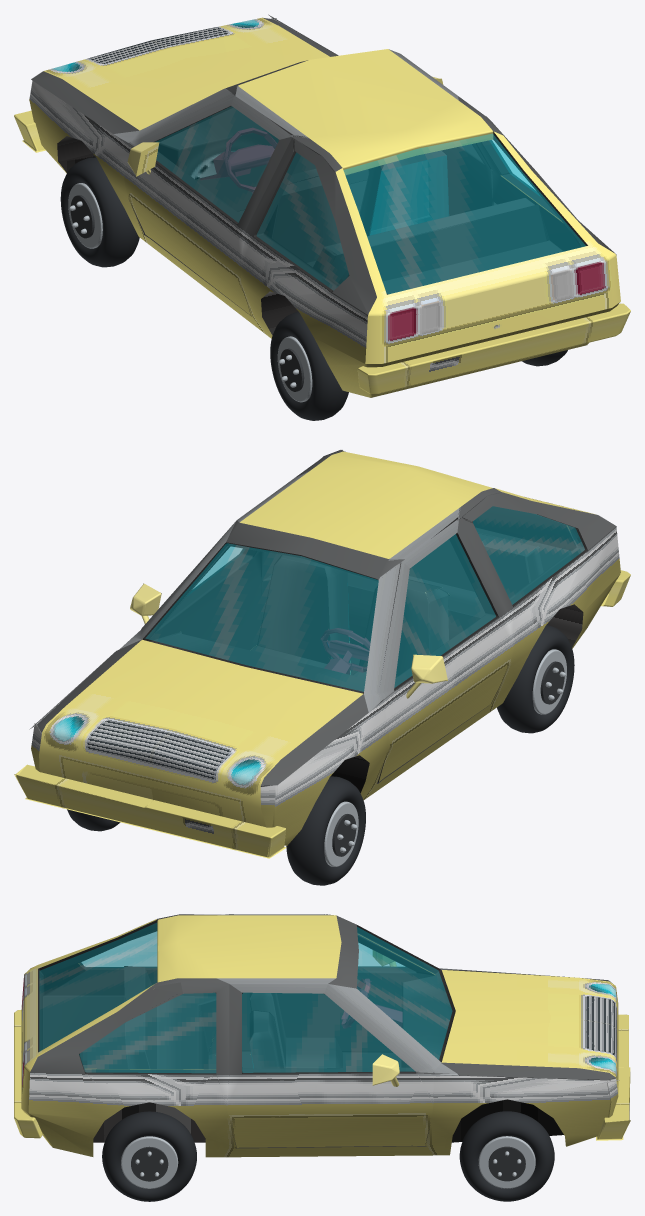
File: car-cnerd.glb
3 views of the same model, one above another, from view 1: azimuth 30°, elevation 25°; view 2: azimuth 150°, elevation 25°; view 3: azimuth 270°, elevation 25° (orthographic). The views are drawn at different scales.
Parts seen in each view (by area): view 1: cNerdShape.002, cNerdShape.004, cNerdShape.005, cNerdShape.001, cNerdShape.006, cNerdShape.003, DoorDRotShape.045, DoorDRotShape.048, Rounded tire.070, Rounded tire.069, DoorPRotShape.052, steeringShape (+6 smaller); view 2: cNerdShape.002, cNerdShape.003, cNerdShape.005, cNerdShape.004, cNerdShape.006, DoorDRotShape.045, DoorDRotShape.048, DoorPRotShape.052, Rounded tire.070, Rounded tire.069, DoorDRotShape.047, cNerdShape (+8 smaller); view 3: cNerdShape.002, cNerdShape.004, cNerdShape.005, DoorPRotShape.050, cNerdShape.003, cNerdShape.006, DoorPRotShape.053, DoorDRotShape.047, Rounded tire.071, Rounded tire.068, cNerdShape, cNerdShape.001 (+8 smaller).
Part boxes in pixels (x1,y1,x2,y2): cNerdShape.002: (14,14,630,397); cNerdShape.004: (129,90,587,316); cNerdShape.005: (257,134,585,293); cNerdShape.001: (335,131,620,363); cNerdShape.006: (238,49,493,174); cNerdShape.003: (43,17,329,130); DoorDRotShape.045: (124,95,291,315); DoorDRotShape.048: (156,106,278,222); Rounded tire.070: (60,157,139,267); Rounded tire.069: (270,311,348,420); DoorPRotShape.052: (368,143,493,216); steeringShape: (200,127,277,193); cNerdShape.002: (14,450,630,858); cNerdShape.003: (39,639,363,826); cNerdShape.005: (145,506,584,691); cNerdShape.004: (142,451,587,783); cNerdShape.006: (240,451,492,558); DoorDRotShape.045: (379,519,513,781); DoorDRotShape.048: (394,534,495,687); DoorPRotShape.052: (148,546,261,650); Rounded tire.070: (286,776,365,885); Rounded tire.069: (497,624,574,733); DoorDRotShape.047: (394,518,498,690); cNerdShape: (287,604,583,845); cNerdShape.002: (14,914,630,1157); cNerdShape.004: (38,920,455,1148); cNerdShape.005: (39,923,452,1072); DoorPRotShape.050: (227,984,433,1147); cNerdShape.003: (441,970,618,1094); cNerdShape.006: (157,915,341,982); DoorPRotShape.053: (242,993,414,1072); DoorDRotShape.047: (242,934,434,1052); Rounded tire.071: (459,1111,554,1201); Rounded tire.068: (102,1111,196,1201); cNerdShape: (52,1099,563,1147); cNerdShape.001: (21,919,156,1113).
Size of the model in its own units: 2.54 by 1.92 by 5.11.
11 materials, 8 textured.
